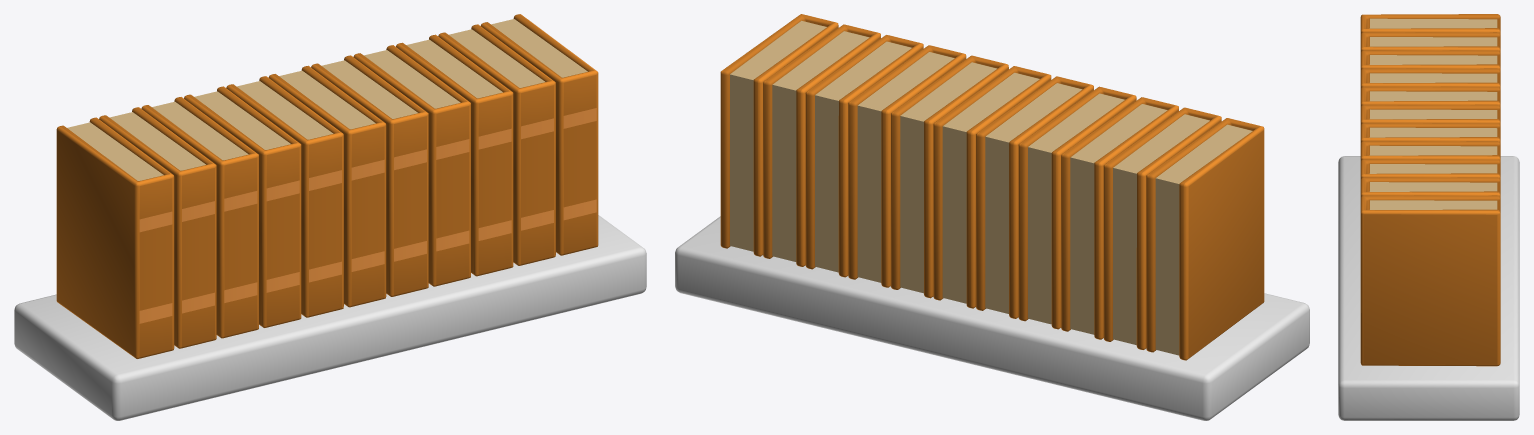
Rendered from Shelf.fbx.
The picture shows the model from 3 angles, left to right: view 1: azimuth 30°, elevation 25°; view 2: azimuth 150°, elevation 25°; view 3: azimuth 270°, elevation 25°; orthographic projection. The views are drawn at different scales.
Visible parts, largest first — view 1: Shelf, Book, Book.003, Book.010, Book.005, Book.001, Book.006, Book.008, Book.002, Book.004, Book.007, Book.009; view 2: Shelf, Book, Book.008, Book.001, Book.006, Book.005, Book.003, Book.007, Book.010, Book.002, Book.004, Book.009; view 3: Book.010, Shelf, Book.001, Book.007, Book.008, Book, Book.002, Book.009, Book.006, Book.003, Book.004, Book.005.
Boxes of the visible parts, x1=… form: Shelf: x1=14, y1=215, x2=646, y2=420; Book: x1=56, y1=117, x2=174, y2=358; Book.003: x1=184, y1=86, x2=301, y2=327; Book.010: x1=481, y1=14, x2=598, y2=255; Book.005: x1=268, y1=65, x2=386, y2=307; Book.001: x1=99, y1=107, x2=216, y2=348; Book.006: x1=311, y1=55, x2=428, y2=296; Book.008: x1=396, y1=34, x2=513, y2=276; Book.002: x1=141, y1=97, x2=258, y2=338; Book.004: x1=226, y1=76, x2=343, y2=317; Book.007: x1=353, y1=45, x2=470, y2=286; Book.009: x1=438, y1=24, x2=555, y2=265; Shelf: x1=675, y1=216, x2=1309, y2=420; Book: x1=1146, y1=118, x2=1264, y2=360; Book.008: x1=805, y1=35, x2=923, y2=277; Book.001: x1=1103, y1=107, x2=1221, y2=349; Book.006: x1=890, y1=55, x2=1008, y2=298; Book.005: x1=933, y1=66, x2=1051, y2=308; Book.003: x1=1018, y1=86, x2=1136, y2=329; Book.007: x1=848, y1=45, x2=966, y2=287; Book.010: x1=720, y1=14, x2=838, y2=256; Book.002: x1=1061, y1=97, x2=1178, y2=339; Book.004: x1=976, y1=76, x2=1093, y2=318; Book.009: x1=763, y1=24, x2=880, y2=266; Book.010: x1=1360, y1=195, x2=1500, y2=366; Shelf: x1=1338, y1=156, x2=1519, y2=420; Book.001: x1=1360, y1=32, x2=1500, y2=52; Book.007: x1=1360, y1=141, x2=1500, y2=161; Book.008: x1=1360, y1=159, x2=1500, y2=179; Book: x1=1360, y1=14, x2=1500, y2=34; Book.002: x1=1360, y1=50, x2=1500, y2=70; Book.009: x1=1360, y1=177, x2=1500, y2=197; Book.006: x1=1360, y1=123, x2=1500, y2=143; Book.003: x1=1360, y1=68, x2=1500, y2=88; Book.004: x1=1360, y1=86, x2=1500, y2=107; Book.005: x1=1360, y1=104, x2=1500, y2=125.
Size of the model in its own units: 433 by 173 by 145.
